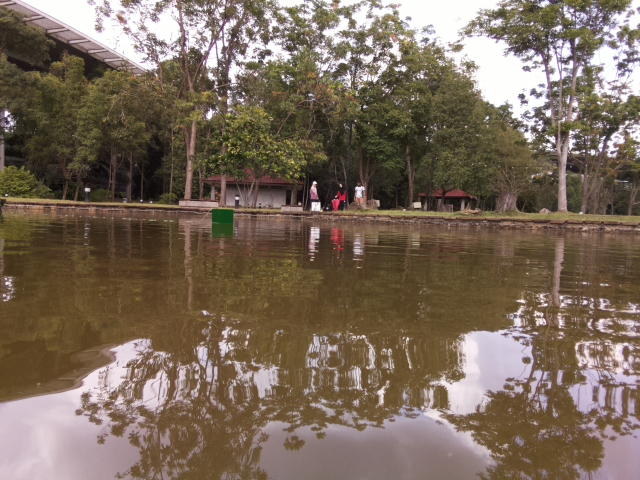obstacle: (211, 208, 235, 224)
